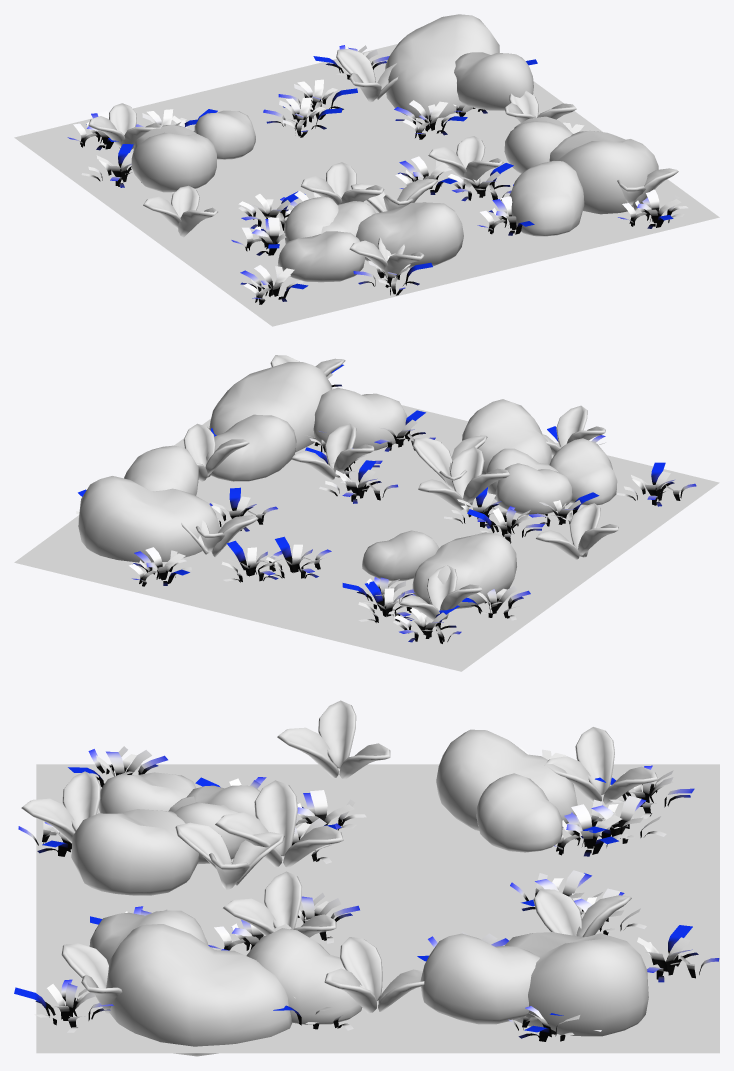
File: TILE_FIELDS_ROUNDBUSHES.fbx
The picture shows the model from 3 angles, top to bottom: view 1: azimuth 30°, elevation 25°; view 2: azimuth 150°, elevation 25°; view 3: azimuth 270°, elevation 25°; orthographic projection. The views are drawn at different scales.
Parts seen in each view (by area): view 1: FLOOR.012, !Env_Grass_Square_SingleSided.016, Village_Env_Bush_03.006, Village_Env_Bush_03.003, Village_Env_Bush_03.005, Village_Env_Bush_03.002, Village_Env_Bush_02.004, Village_Env_Bush_02.001, Village_Env_Bush_03.001, Village_Env_Bush_02.005, Village_Env_Bush_02.003, BUSH.017 (+10 smaller); view 2: FLOOR.012, !Env_Grass_Square_SingleSided.016, Village_Env_Bush_03.006, Village_Env_Bush_03.003, Village_Env_Bush_03.002, Village_Env_Bush_02.005, Village_Env_Bush_02.004, Village_Env_Bush_03.005, Village_Env_Bush_02.002, Village_Env_Bush_03.001, Village_Env_Bush_02.001, Village_Env_Bush_02.003 (+9 smaller); view 3: FLOOR.012, Village_Env_Bush_03.003, !Env_Grass_Square_SingleSided.016, Village_Env_Bush_03.006, Village_Env_Bush_03.005, Village_Env_Bush_02.001, Village_Env_Bush_03.002, Village_Env_Bush_02.005, Village_Env_Bush_02.003, BUSH.017, BUSH.013, BUSH.011 (+10 smaller).
Boxes of the visible parts, x1,y1,x2,y2 form: FLOOR.012: (14,44,719,326); !Env_Grass_Square_SingleSided.016: (67,45,687,304); Village_Env_Bush_03.006: (385,14,499,118); Village_Env_Bush_03.003: (549,130,658,214); Village_Env_Bush_03.005: (356,202,463,267); Village_Env_Bush_03.002: (131,125,216,192); Village_Env_Bush_02.004: (509,161,584,236); Village_Env_Bush_02.001: (454,52,533,110); Village_Env_Bush_03.001: (277,231,364,282); Village_Env_Bush_02.005: (504,116,572,173); Village_Env_Bush_02.003: (194,110,255,159); BUSH.017: (301,162,384,204); FLOOR.012: (14,388,719,671); !Env_Grass_Square_SingleSided.016: (76,364,696,643); Village_Env_Bush_03.006: (78,476,220,562); Village_Env_Bush_03.003: (209,362,331,452); Village_Env_Bush_03.002: (412,532,516,608); Village_Env_Bush_02.005: (206,414,296,481); Village_Env_Bush_02.004: (313,387,407,450); Village_Env_Bush_03.005: (462,399,551,474); Village_Env_Bush_02.002: (495,463,572,515); Village_Env_Bush_03.001: (549,438,617,505); Village_Env_Bush_02.001: (124,445,198,495); Village_Env_Bush_02.003: (362,530,438,581); FLOOR.012: (36,764,719,1053); Village_Env_Bush_03.003: (106,924,292,1056); !Env_Grass_Square_SingleSided.016: (14,746,719,1041); Village_Env_Bush_03.006: (504,932,648,1036); Village_Env_Bush_03.005: (71,809,198,895); Village_Env_Bush_02.001: (420,933,539,1024); Village_Env_Bush_03.002: (436,729,577,830); Village_Env_Bush_02.005: (246,928,362,1024); Village_Env_Bush_02.003: (476,773,562,852); BUSH.017: (215,780,343,867); BUSH.013: (277,700,390,779); BUSH.011: (544,727,657,804).
Bounding box in the file's own units: 209 × 35.97 × 207.
